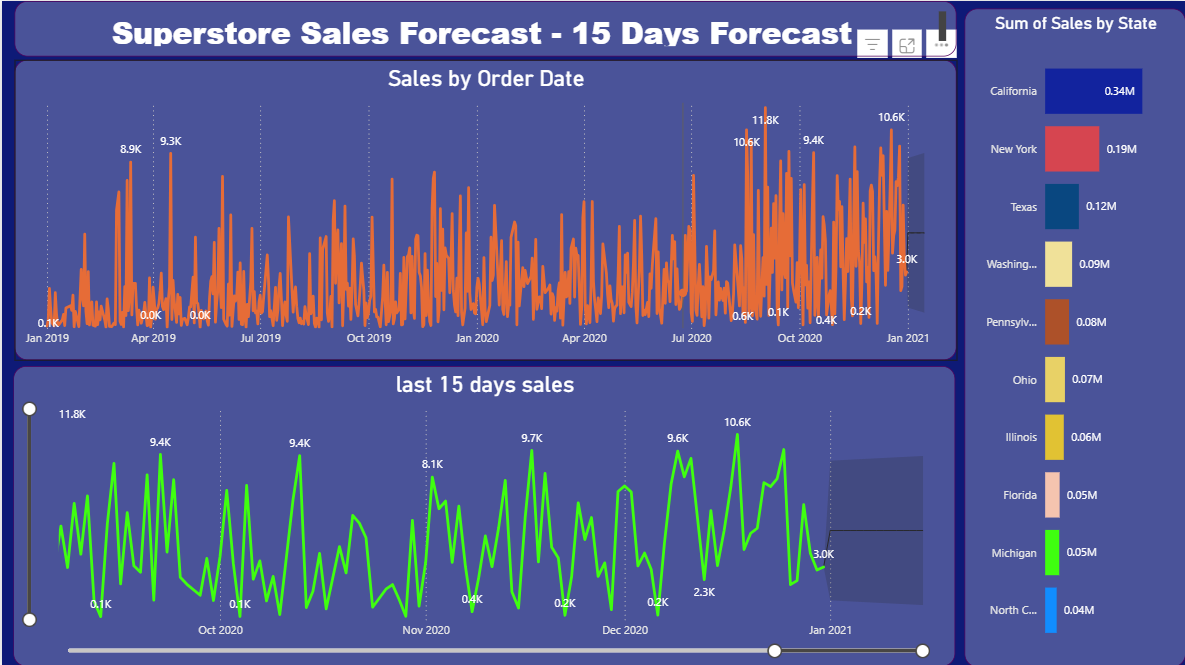

Layout of this report page (visuals, bound fields, positions):
{"tool":"powerbi","page":{"name":"Page 2","canvas":[1280,720],"ordinal":1},"visuals":[{"type":"lineChart","title":" Sales by Order Date","fields":{"Y":["Sum(SuperStore_Sales_Dataset new.Sales)"],"Category":["SuperStore_Sales_Dataset new.Order Date"]},"box":[13.5,63.8,1018.4,325.2],"z":0},{"type":"lineChart","title":"last 15 days sales","fields":{"Y":["Sum(SuperStore_Sales_Dataset new.Sales)"],"Category":["SuperStore_Sales_Dataset new.Order Date"]},"box":[12.3,394.8,1018.4,325.2],"z":1},{"type":"clusteredBarChart","fields":{"Category":["SuperStore_Sales_Dataset new.State"],"Y":["Sum(SuperStore_Sales_Dataset new.Sales)"]},"box":[1040.5,8.6,239.3,711.7],"z":2},{"type":"textbox","box":[13.5,0,1018.4,60.1],"z":3}]}

Visuals, with their boxes in screenshot pixels (x1, y1, x2, y2), scaled from the page's 1280x720 canvas onto the 1185x665 screenshot:
" Sales by Order Date" lineChart: x1=12 y1=59 x2=955 y2=359
"last 15 days sales" lineChart: x1=11 y1=365 x2=954 y2=664
clusteredBarChart - SuperStore_Sales_Dataset new.State x Sum(SuperStore_Sales_Dataset new.Sales): x1=963 y1=8 x2=1184 y2=664
textbox: x1=12 y1=0 x2=955 y2=56
